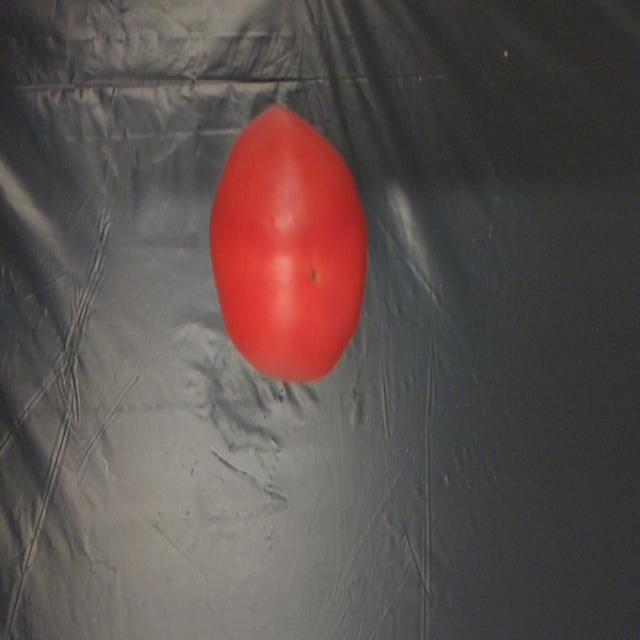kirmizi: (208, 99, 373, 392)
